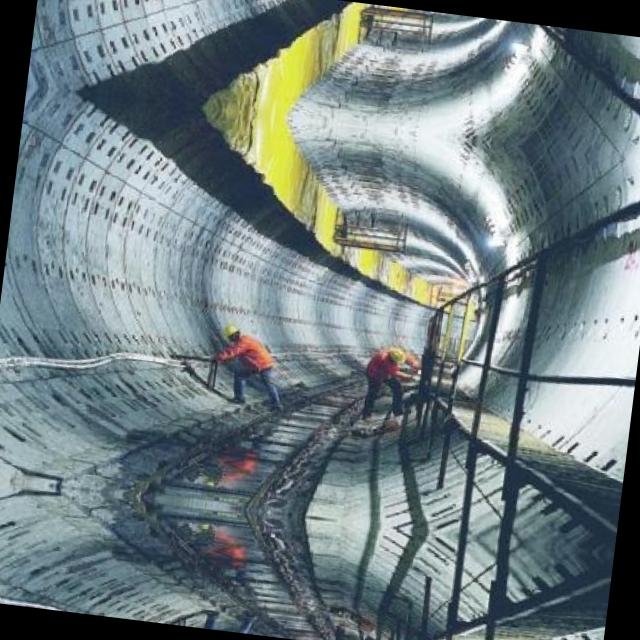helmet: (382, 344, 408, 364), (219, 323, 242, 341)
